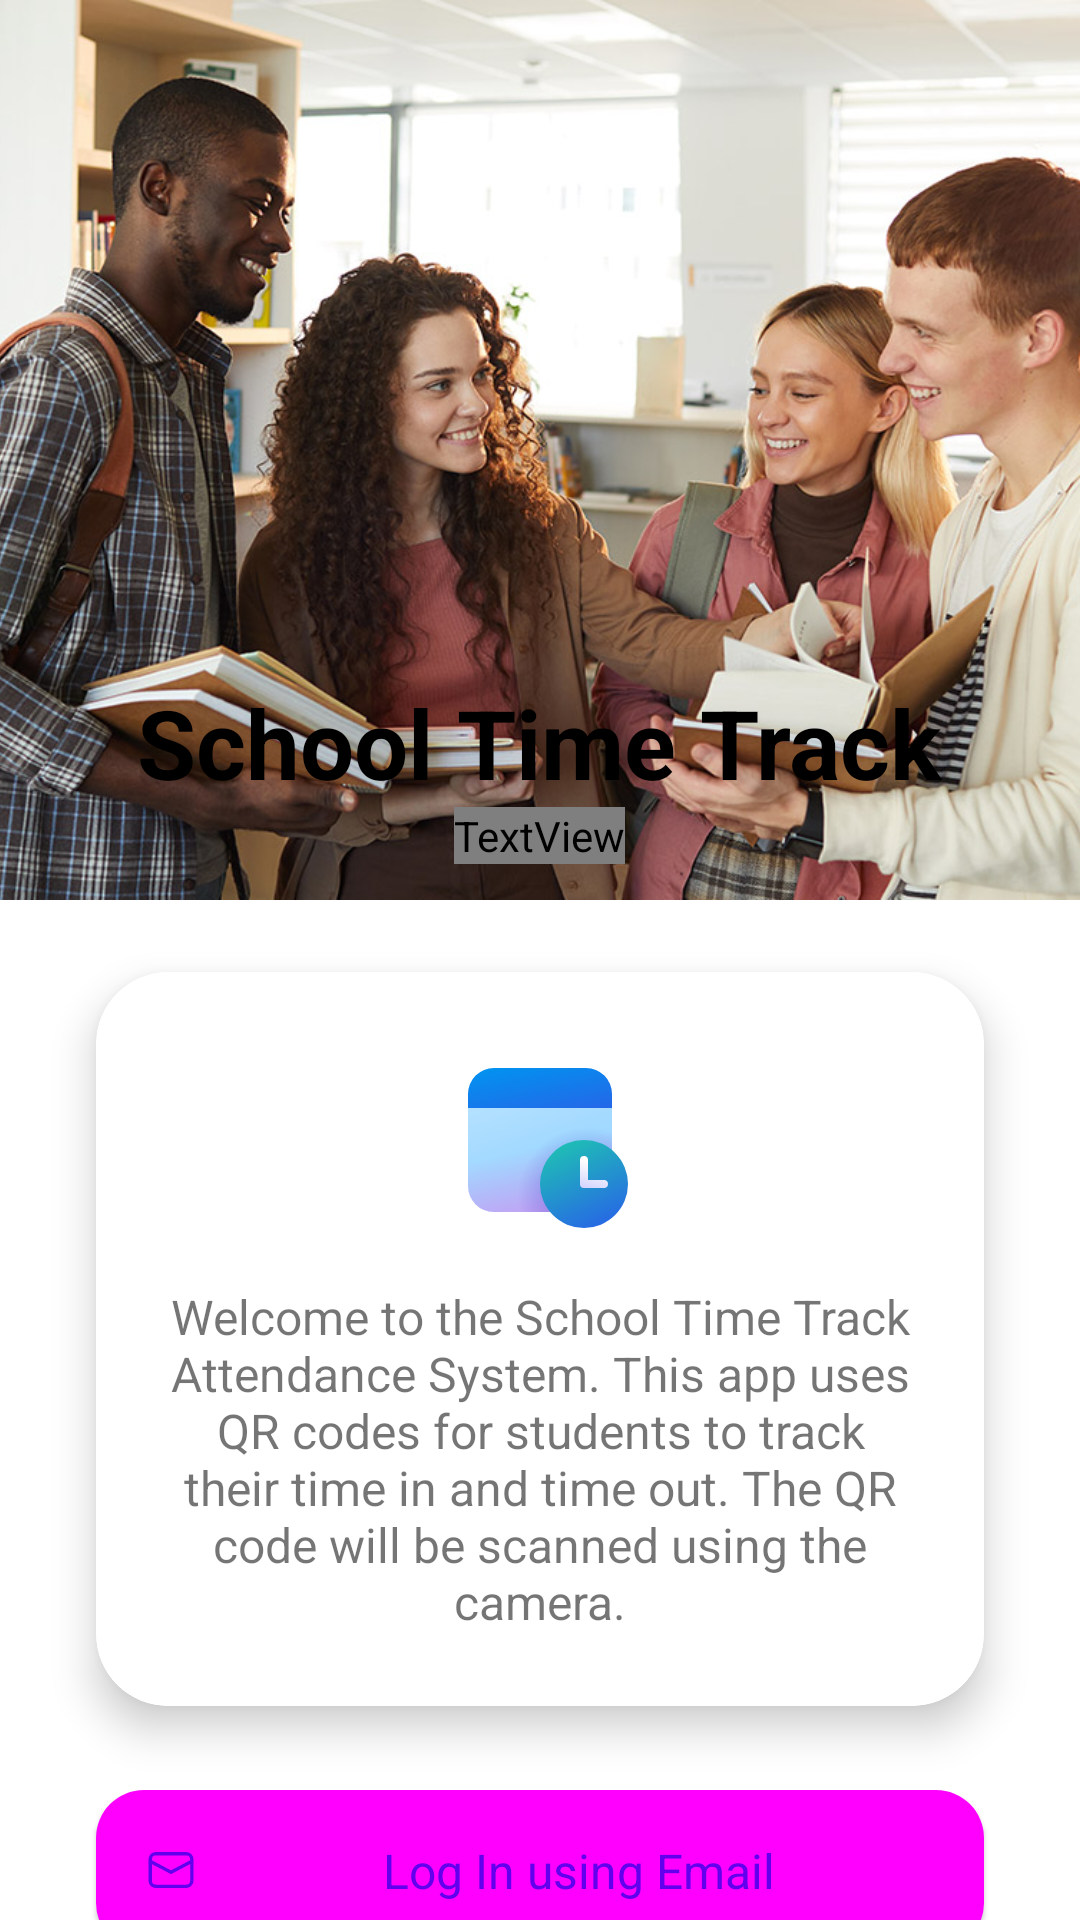

Icon bounding boxes for this 1080w x 1920h phone screenshot, format (x1,y1,x2,y2):
calendar clock: (468,1068,628,1228)
